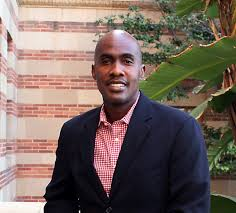black_male: (72, 19, 146, 119)
